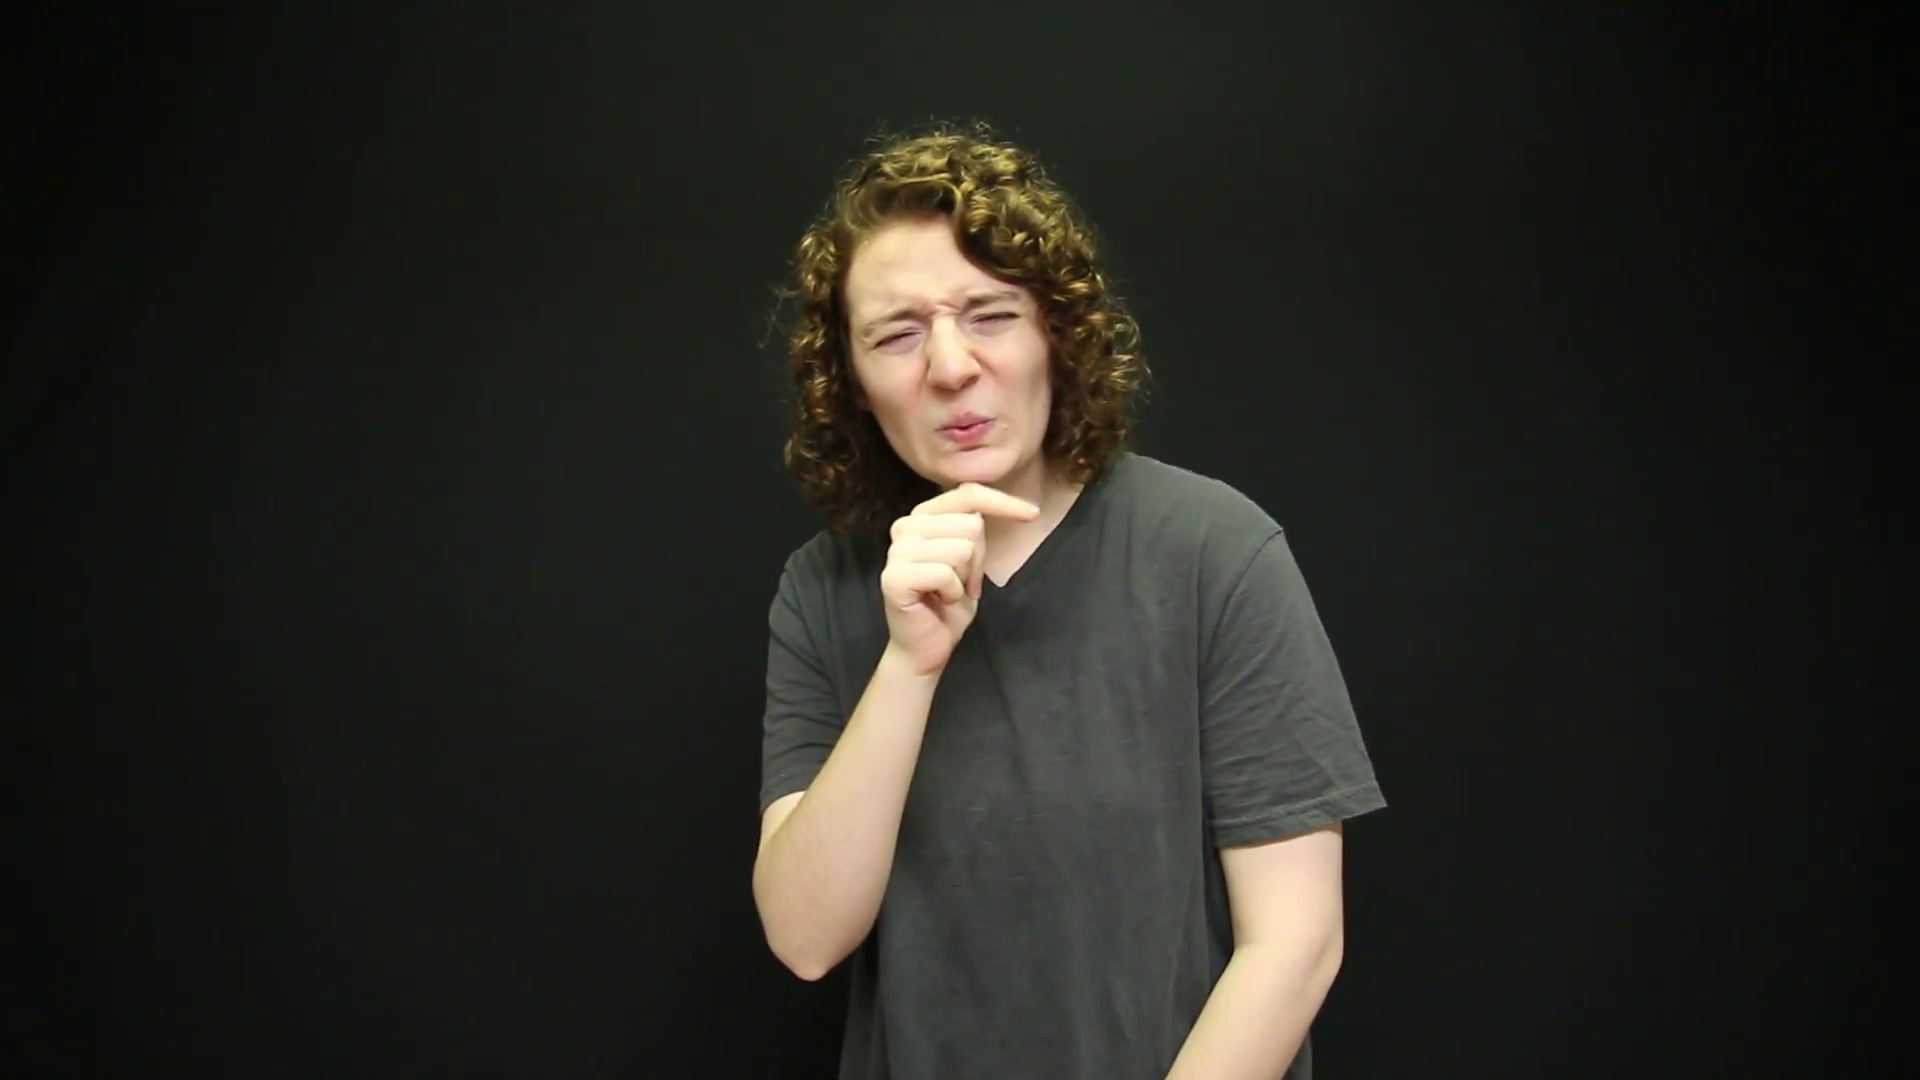who: (862, 476, 1052, 674)
